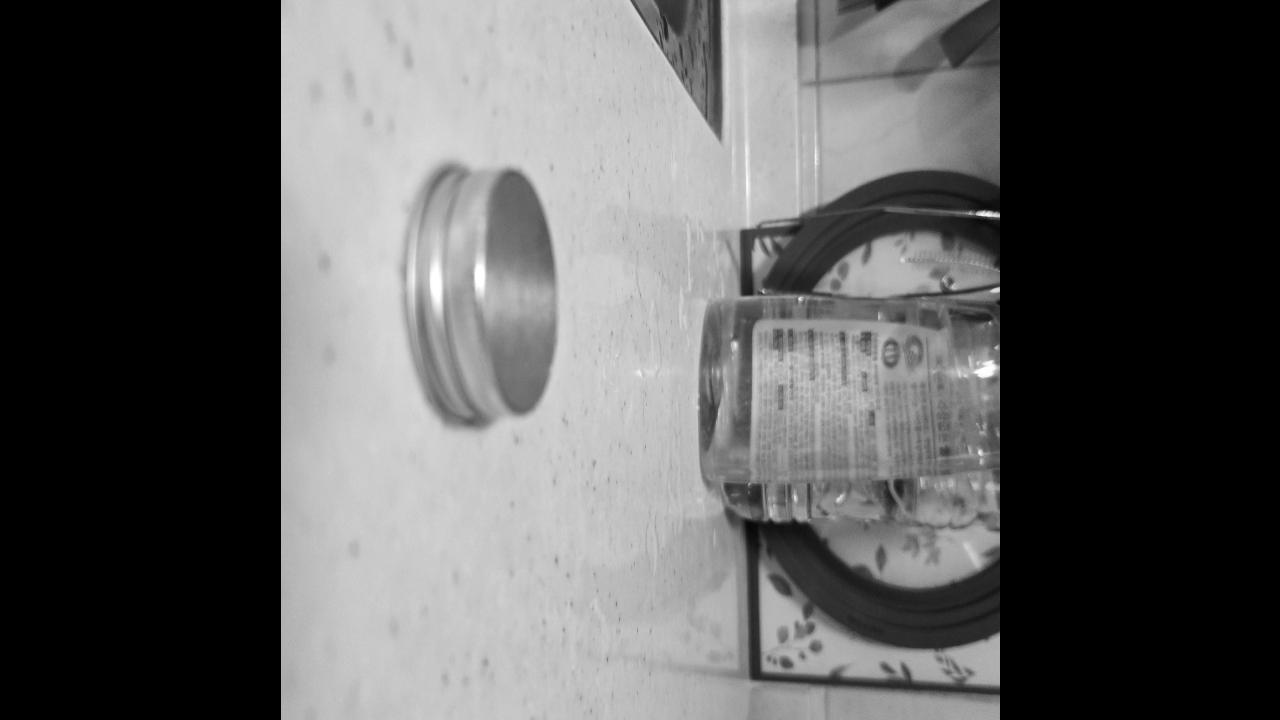bottle_cap: (396, 160, 562, 432)
